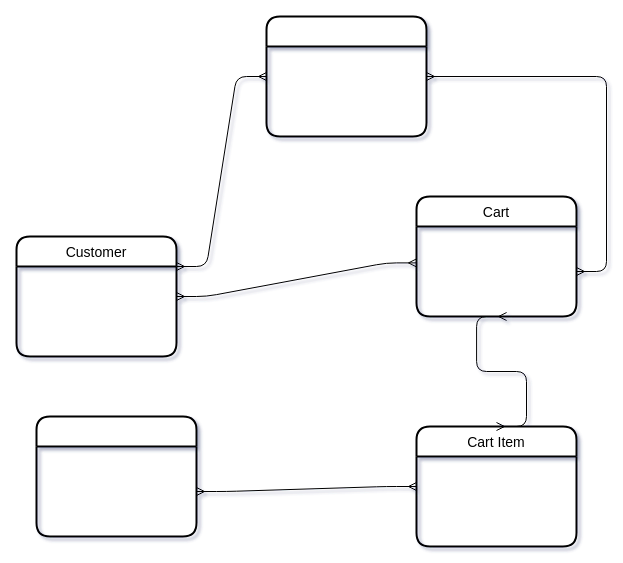
Image size: 623x563. Some labels were removed from this diagram. The shapes that lost their labels are listed below. From the top down, each one's centre as x and y in pixels, then its label:
the point at 346,76: Shipping Address
the point at 116,476: Product
